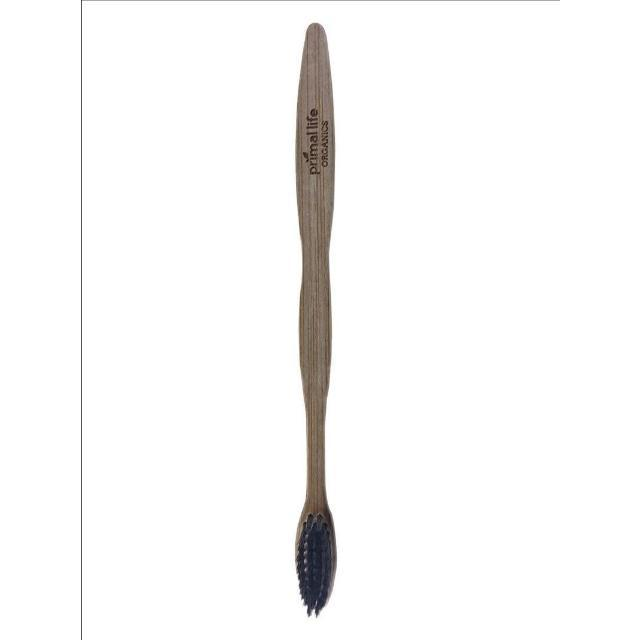toothbrush: (264, 11, 368, 639)
